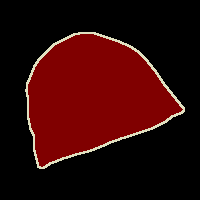hat: (26, 32, 184, 168)
